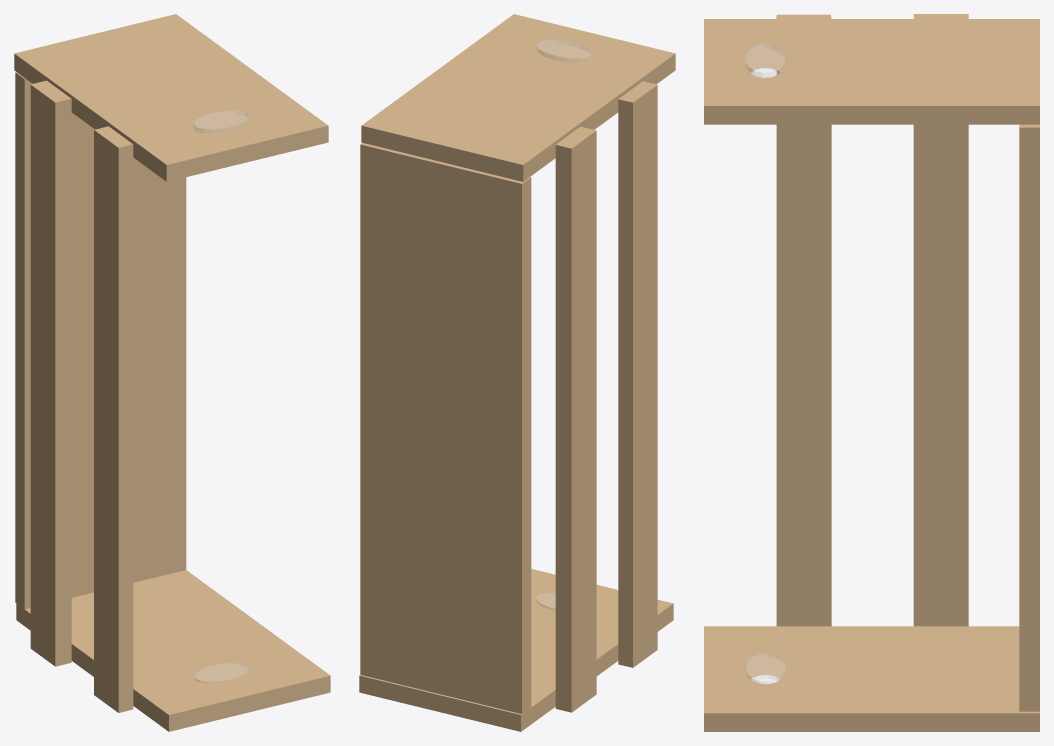
File: tinker.obj
The picture shows the model from 3 angles, left to right: view 1: azimuth 30°, elevation 25°; view 2: azimuth 150°, elevation 25°; view 3: azimuth 270°, elevation 25°; orthographic projection. The views are drawn at different scales.
Visible parts, largest first — view 1: group_0_14860437, group_0_-1023739142; view 2: group_0_14860437, group_0_-1023739142; view 3: group_0_14860437, group_0_-1023739142.
Boxes of the visible parts, x1=… form: group_0_14860437: x1=14, y1=14, x2=330, y2=731; group_0_-1023739142: x1=193, y1=110, x2=249, y2=683; group_0_14860437: x1=359, y1=14, x2=675, y2=731; group_0_-1023739142: x1=536, y1=40, x2=592, y2=610; group_0_14860437: x1=704, y1=14, x2=1039, y2=731; group_0_-1023739142: x1=745, y1=44, x2=785, y2=683.
Size of the model in its own units: 167 by 510 by 245.
